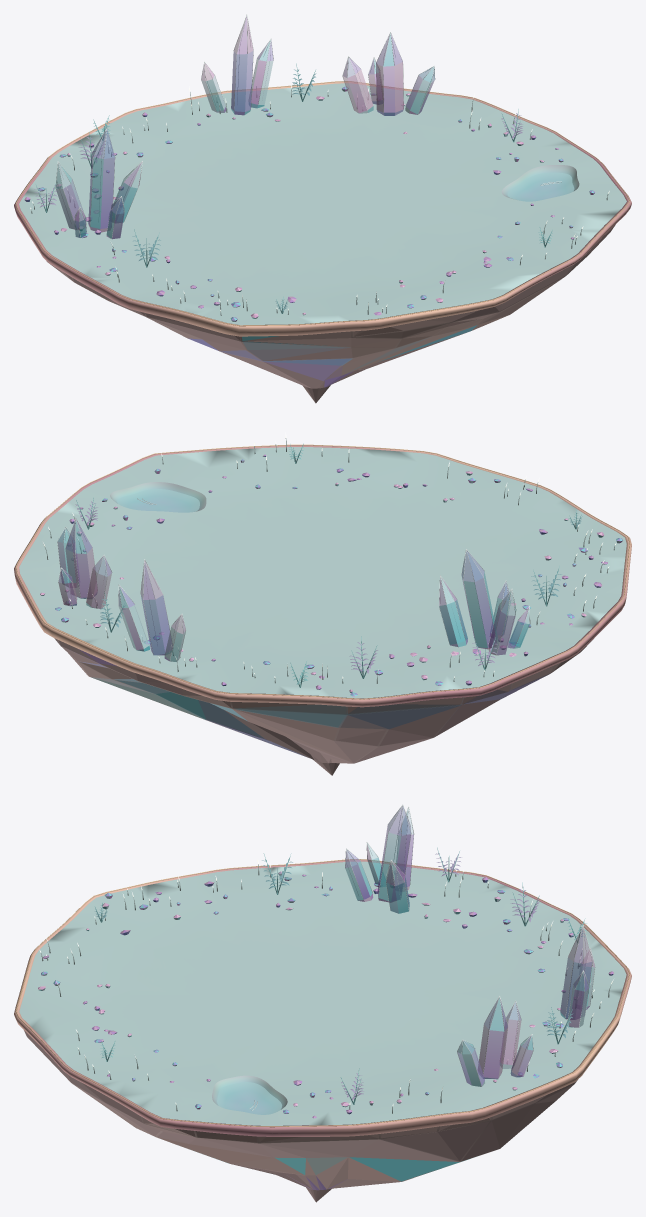
Rendered from island-modern.glb.
The picture shows the model from 3 angles, top to bottom: view 1: azimuth 30°, elevation 25°; view 2: azimuth 150°, elevation 25°; view 3: azimuth 270°, elevation 25°; orthographic projection. The views are drawn at different scales.
Parts seen in each view (by area): view 1: Island_Surface | Opalescent planting clearing, Island_Crystal_Underside | Asymmetric mineral keel, Island_Metal_Rim | Contour-following rose-gold seam, Island_Peripheral_Crystals | Cluster 1 facet family 1, Island_Vegetation | Ferns and bent grasses, Island_Peripheral_Crystals | Polished facet edges, Island_Peripheral_Crystals | Cluster 2 facet family 1, Island_Pond | Recessed mineral basin, Island_Accents | Scattered opal gravel, Island_Metal_Rim | Champagne upper seam, Island_Peripheral_Crystals | Cluster 3 facet family 1, Island_Pond | Single aqua water sheet (+6 smaller); view 2: Island_Surface | Opalescent planting clearing, Island_Crystal_Underside | Asymmetric mineral keel, Island_Metal_Rim | Contour-following rose-gold seam, Island_Peripheral_Crystals | Cluster 1 facet family 1, Island_Vegetation | Ferns and bent grasses, Island_Pond | Recessed mineral basin, Island_Peripheral_Crystals | Polished facet edges, Island_Peripheral_Crystals | Cluster 2 facet family 1, Island_Accents | Scattered opal gravel, Island_Metal_Rim | Champagne upper seam, Island_Peripheral_Crystals | Cluster 3 facet family 1, Island_Peripheral_Crystals | Cluster 1 facet family 2 (+6 smaller); view 3: Island_Surface | Opalescent planting clearing, Island_Crystal_Underside | Asymmetric mineral keel, Island_Metal_Rim | Contour-following rose-gold seam, Island_Peripheral_Crystals | Cluster 1 facet family 1, Island_Vegetation | Ferns and bent grasses, Island_Peripheral_Crystals | Cluster 2 facet family 1, Island_Pond | Recessed mineral basin, Island_Accents | Scattered opal gravel, Island_Peripheral_Crystals | Polished facet edges, Island_Metal_Rim | Champagne upper seam, Island_Peripheral_Crystals | Cluster 3 facet family 1, Island_Pond | Single aqua water sheet (+5 smaller).
Boxes of the visible parts, x1=… form: Island_Surface | Opalescent planting clearing: x1=19, y1=83, x2=626, y2=325; Island_Crystal_Underside | Asymmetric mineral keel: x1=46, y1=224, x2=615, y2=403; Island_Metal_Rim | Contour-following rose-gold seam: x1=14, y1=81, x2=631, y2=336; Island_Peripheral_Crystals | Cluster 1 facet family 1: x1=88, y1=129, x2=124, y2=239; Island_Vegetation | Ferns and bent grasses: x1=31, y1=63, x2=608, y2=315; Island_Peripheral_Crystals | Polished facet edges: x1=55, y1=14, x2=435, y2=238; Island_Peripheral_Crystals | Cluster 2 facet family 1: x1=368, y1=34, x2=403, y2=115; Island_Pond | Recessed mineral basin: x1=501, y1=165, x2=579, y2=201; Island_Accents | Scattered opal gravel: x1=24, y1=86, x2=594, y2=321; Island_Metal_Rim | Champagne upper seam: x1=15, y1=81, x2=630, y2=326; Island_Peripheral_Crystals | Cluster 3 facet family 1: x1=231, y1=17, x2=253, y2=115; Island_Pond | Single aqua water sheet: x1=507, y1=172, x2=574, y2=201; Island_Surface | Opalescent planting clearing: x1=19, y1=447, x2=626, y2=698; Island_Crystal_Underside | Asymmetric mineral keel: x1=54, y1=638, x2=593, y2=775; Island_Metal_Rim | Contour-following rose-gold seam: x1=14, y1=445, x2=631, y2=707; Island_Peripheral_Crystals | Cluster 1 facet family 1: x1=461, y1=551, x2=510, y2=649; Island_Vegetation | Ferns and bent grasses: x1=43, y1=438, x2=615, y2=687; Island_Pond | Recessed mineral basin: x1=110, y1=482, x2=206, y2=512; Island_Peripheral_Crystals | Polished facet edges: x1=57, y1=517, x2=530, y2=660; Island_Peripheral_Crystals | Cluster 2 facet family 1: x1=58, y1=520, x2=97, y2=606; Island_Accents | Scattered opal gravel: x1=40, y1=454, x2=622, y2=696; Island_Metal_Rim | Champagne upper seam: x1=15, y1=444, x2=630, y2=699; Island_Peripheral_Crystals | Cluster 3 facet family 1: x1=140, y1=561, x2=172, y2=655; Island_Peripheral_Crystals | Cluster 1 facet family 2: x1=439, y1=577, x2=529, y2=648; Island_Surface | Opalescent planting clearing: x1=19, y1=861, x2=626, y2=1125; Island_Crystal_Underside | Asymmetric mineral keel: x1=24, y1=1030, x2=577, y2=1202; Island_Metal_Rim | Contour-following rose-gold seam: x1=14, y1=859, x2=631, y2=1136; Island_Peripheral_Crystals | Cluster 1 facet family 1: x1=345, y1=806, x2=410, y2=902; Island_Vegetation | Ferns and bent grasses: x1=41, y1=847, x2=612, y2=1113; Island_Peripheral_Crystals | Cluster 2 facet family 1: x1=478, y1=998, x2=533, y2=1079; Island_Pond | Recessed mineral basin: x1=212, y1=1075, x2=287, y2=1114; Island_Accents | Scattered opal gravel: x1=38, y1=871, x2=613, y2=1118; Island_Peripheral_Crystals | Polished facet edges: x1=345, y1=804, x2=595, y2=1086; Island_Metal_Rim | Champagne upper seam: x1=15, y1=859, x2=630, y2=1127; Island_Peripheral_Crystals | Cluster 3 facet family 1: x1=560, y1=927, x2=592, y2=1019; Island_Pond | Single aqua water sheet: x1=217, y1=1082, x2=281, y2=1114.
Bounding box in the file's own units: 7.93 × 4.25 × 7.69.
